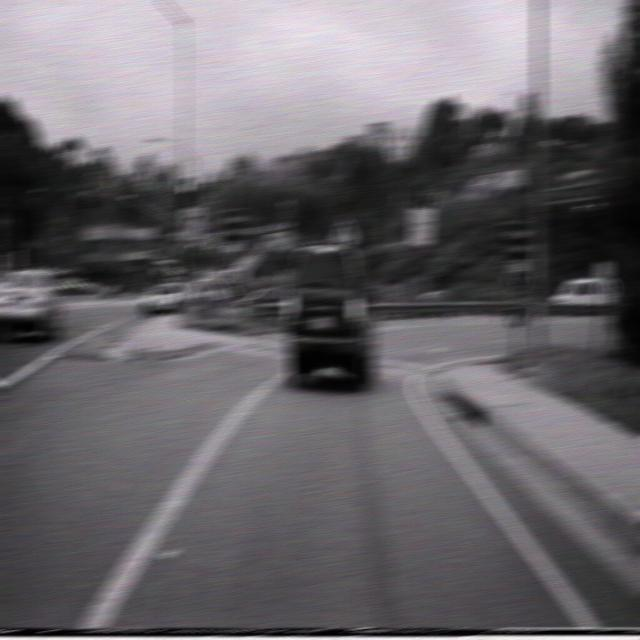noRightTurn: (182, 206, 202, 238)
